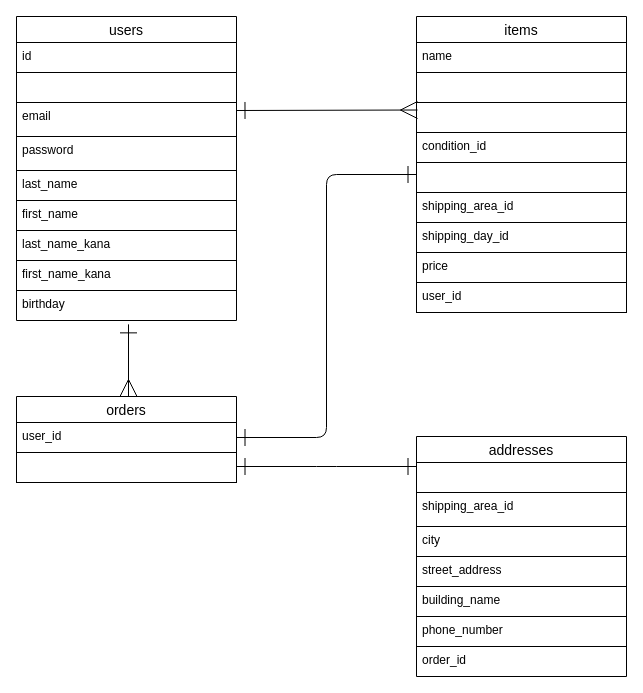
The diagram is 643 pixels wide and 693 high, and some of its shapes have lost their labels. Here are the shapes that lost their labels. From the top down, the centre of each, then its label:
point 126,87: nickname
point 521,87: description
point 521,117: category_id
point 521,177: shipping_charge_id
point 126,467: item_id
point 521,477: postal_code
